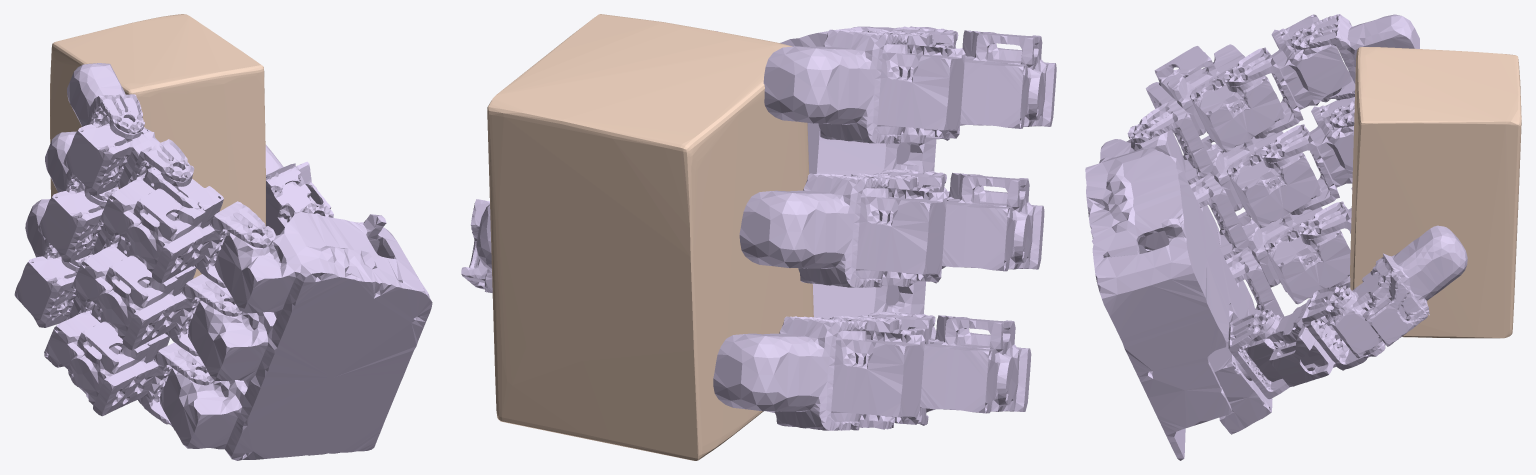
The model's file is a8800b875c1eea-final.glb.
3 views of the same model, side by side, from view 1: azimuth 30°, elevation 25°; view 2: azimuth 150°, elevation 25°; view 3: azimuth 270°, elevation 25° (orthographic). The views are drawn at different scales.
Visible parts, largest first — view 1: LEAP_hand, world; view 2: world, LEAP_hand; view 3: LEAP_hand, world.
Boxes of the visible parts, x1=… form: LEAP_hand: x1=14, y1=63, x2=432, y2=460; world: x1=50, y1=14, x2=265, y2=278; world: x1=487, y1=14, x2=813, y2=460; LEAP_hand: x1=461, y1=26, x2=1056, y2=430; LEAP_hand: x1=1085, y1=14, x2=1467, y2=460; world: x1=1350, y1=47, x2=1521, y2=338.
Size of the model in its own units: 0.1707 by 0.1853 by 0.2056.
